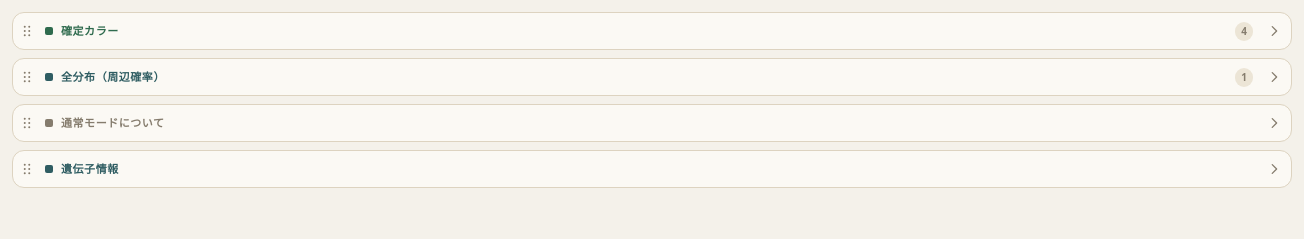
Test: ResultView full distribution › 確定色は -White を合算せず、ベース色と -White を別チップで表示する
The width and height of the screenshot is (1304, 239).
What coordinates should you click on to do the following:
click the button "確定カラー 4"
I would click on:
 (90, 30)
Its box is [45,14,1291,48].
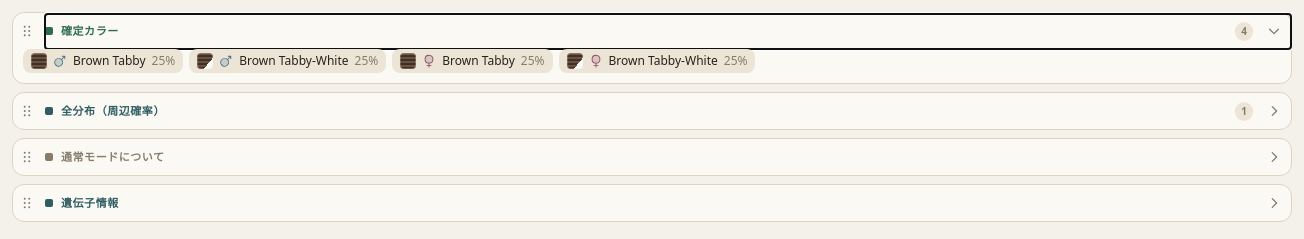
Expected: the 1st text "Brown Tabby" is shown, [73,53,146,69]
Expected: the 1st text "Brown Tabby-White" is shown, [239,53,348,69]
